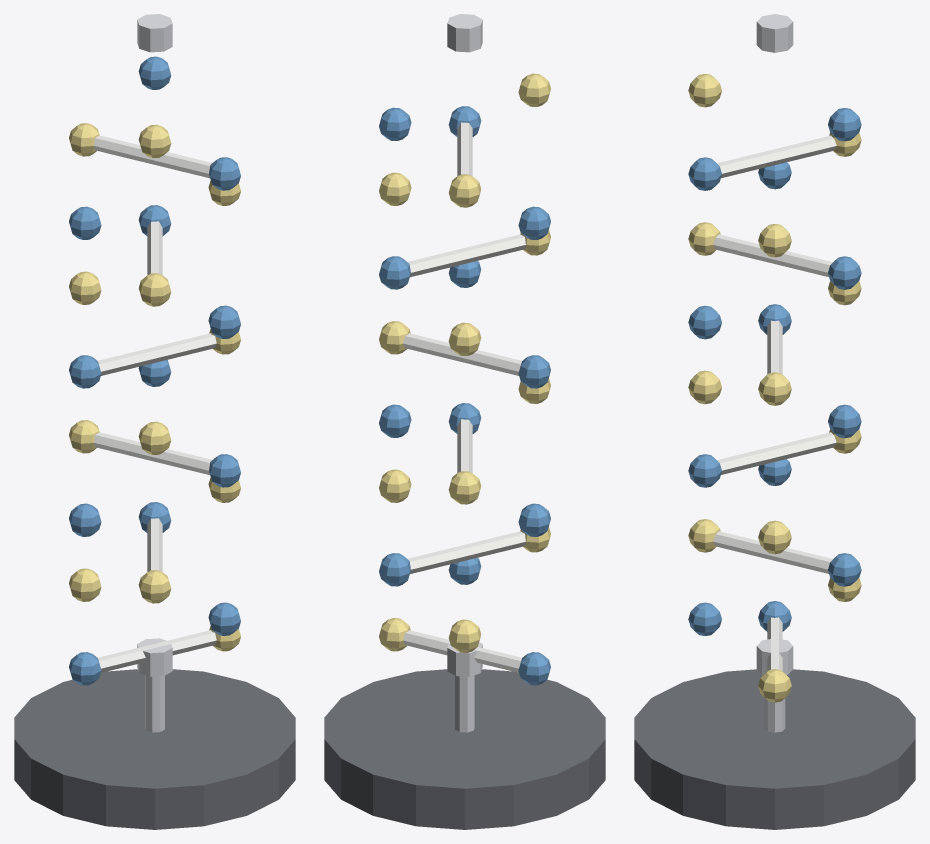
Rendered from dna.glb.
The picture shows the model from 3 angles, left to right: view 1: azimuth 30°, elevation 25°; view 2: azimuth 150°, elevation 25°; view 3: azimuth 270°, elevation 25°; orthographic projection.
Visible parts, largest first — view 1: dna-helix, helix/iris, helix/eye, helix/nerve, helix/steel; view 2: dna-helix, helix/iris, helix/nerve, helix/eye, helix/steel; view 3: dna-helix, helix/iris, helix/eye, helix/nerve, helix/steel.
Part boxes in pixels (bbox=[...]): dna-helix: bbox=[14, 669, 295, 829]; helix/iris: bbox=[69, 56, 240, 685]; helix/eye: bbox=[94, 135, 216, 672]; helix/nerve: bbox=[69, 123, 240, 651]; helix/steel: bbox=[137, 14, 172, 676]; dna-helix: bbox=[324, 669, 605, 829]; helix/iris: bbox=[379, 106, 550, 685]; helix/nerve: bbox=[379, 73, 550, 652]; helix/eye: bbox=[403, 122, 525, 672]; helix/steel: bbox=[447, 14, 482, 676]; dna-helix: bbox=[634, 669, 915, 829]; helix/iris: bbox=[688, 108, 861, 635]; helix/eye: bbox=[713, 135, 836, 670]; helix/nerve: bbox=[688, 74, 861, 702]; helix/steel: bbox=[756, 14, 793, 674].
Size of the model in its own units: 0.22 by 0.635 by 0.2167.
